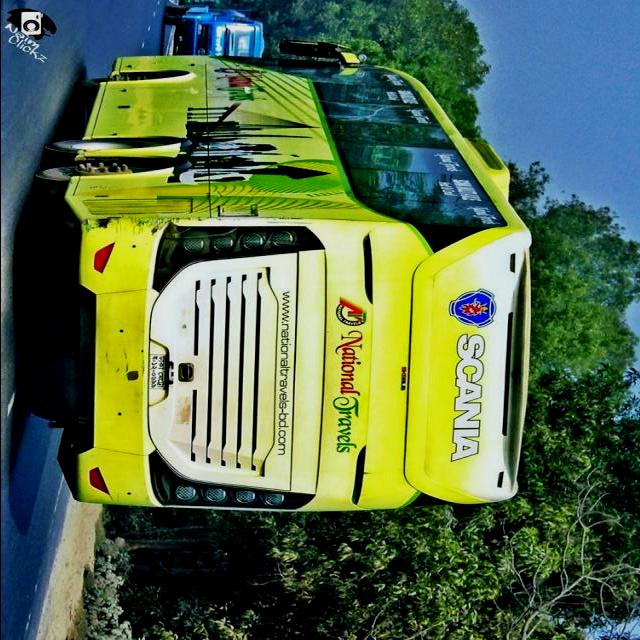bus: (21, 38, 535, 515)
